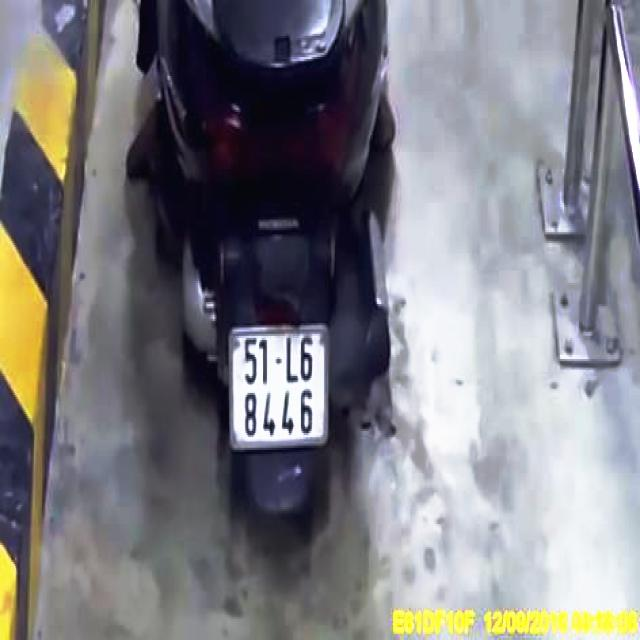license_plate: (231, 330, 331, 446)
